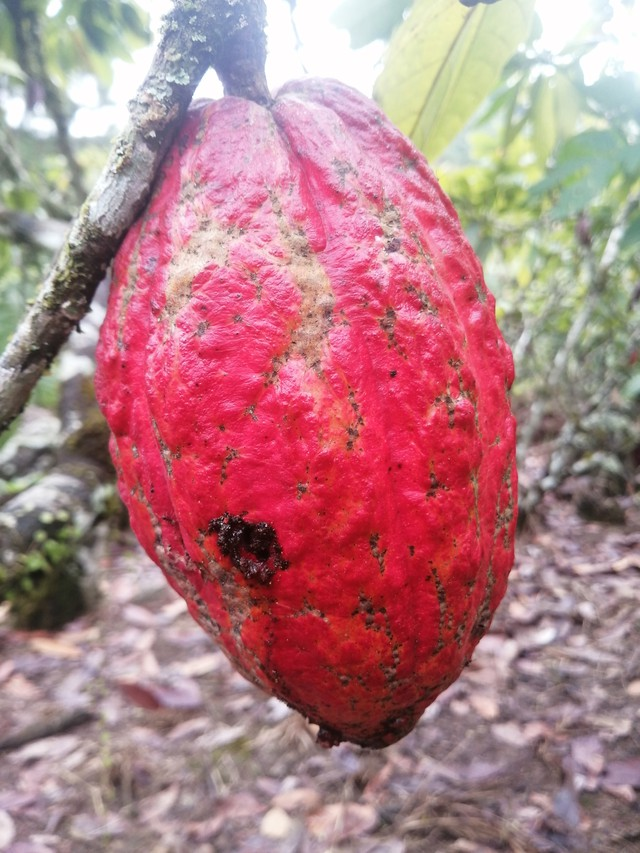carmenta foraseminis: (91, 65, 522, 755)
